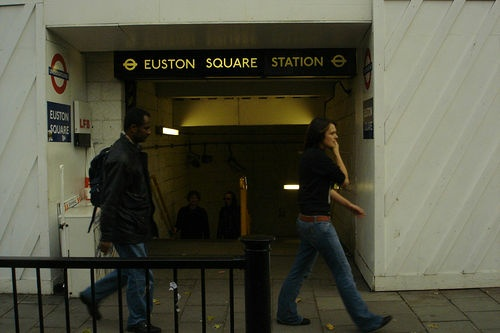without_mask: (123, 109, 155, 150), (318, 118, 341, 153)
